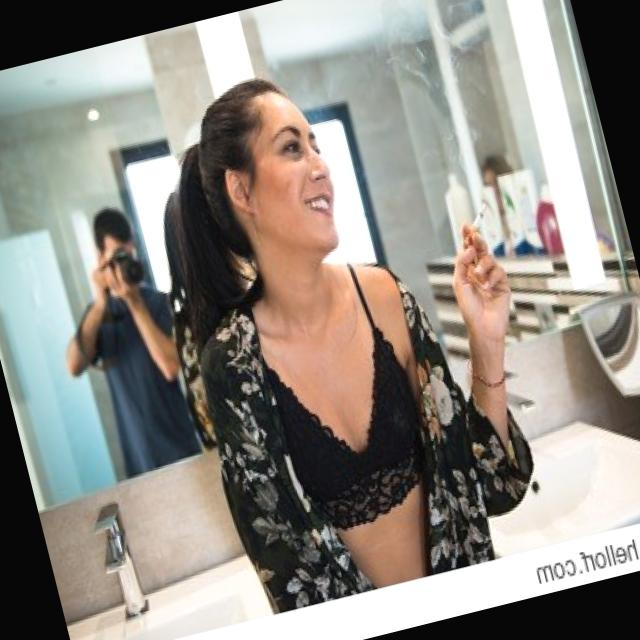smoke: (452, 198, 495, 248)
